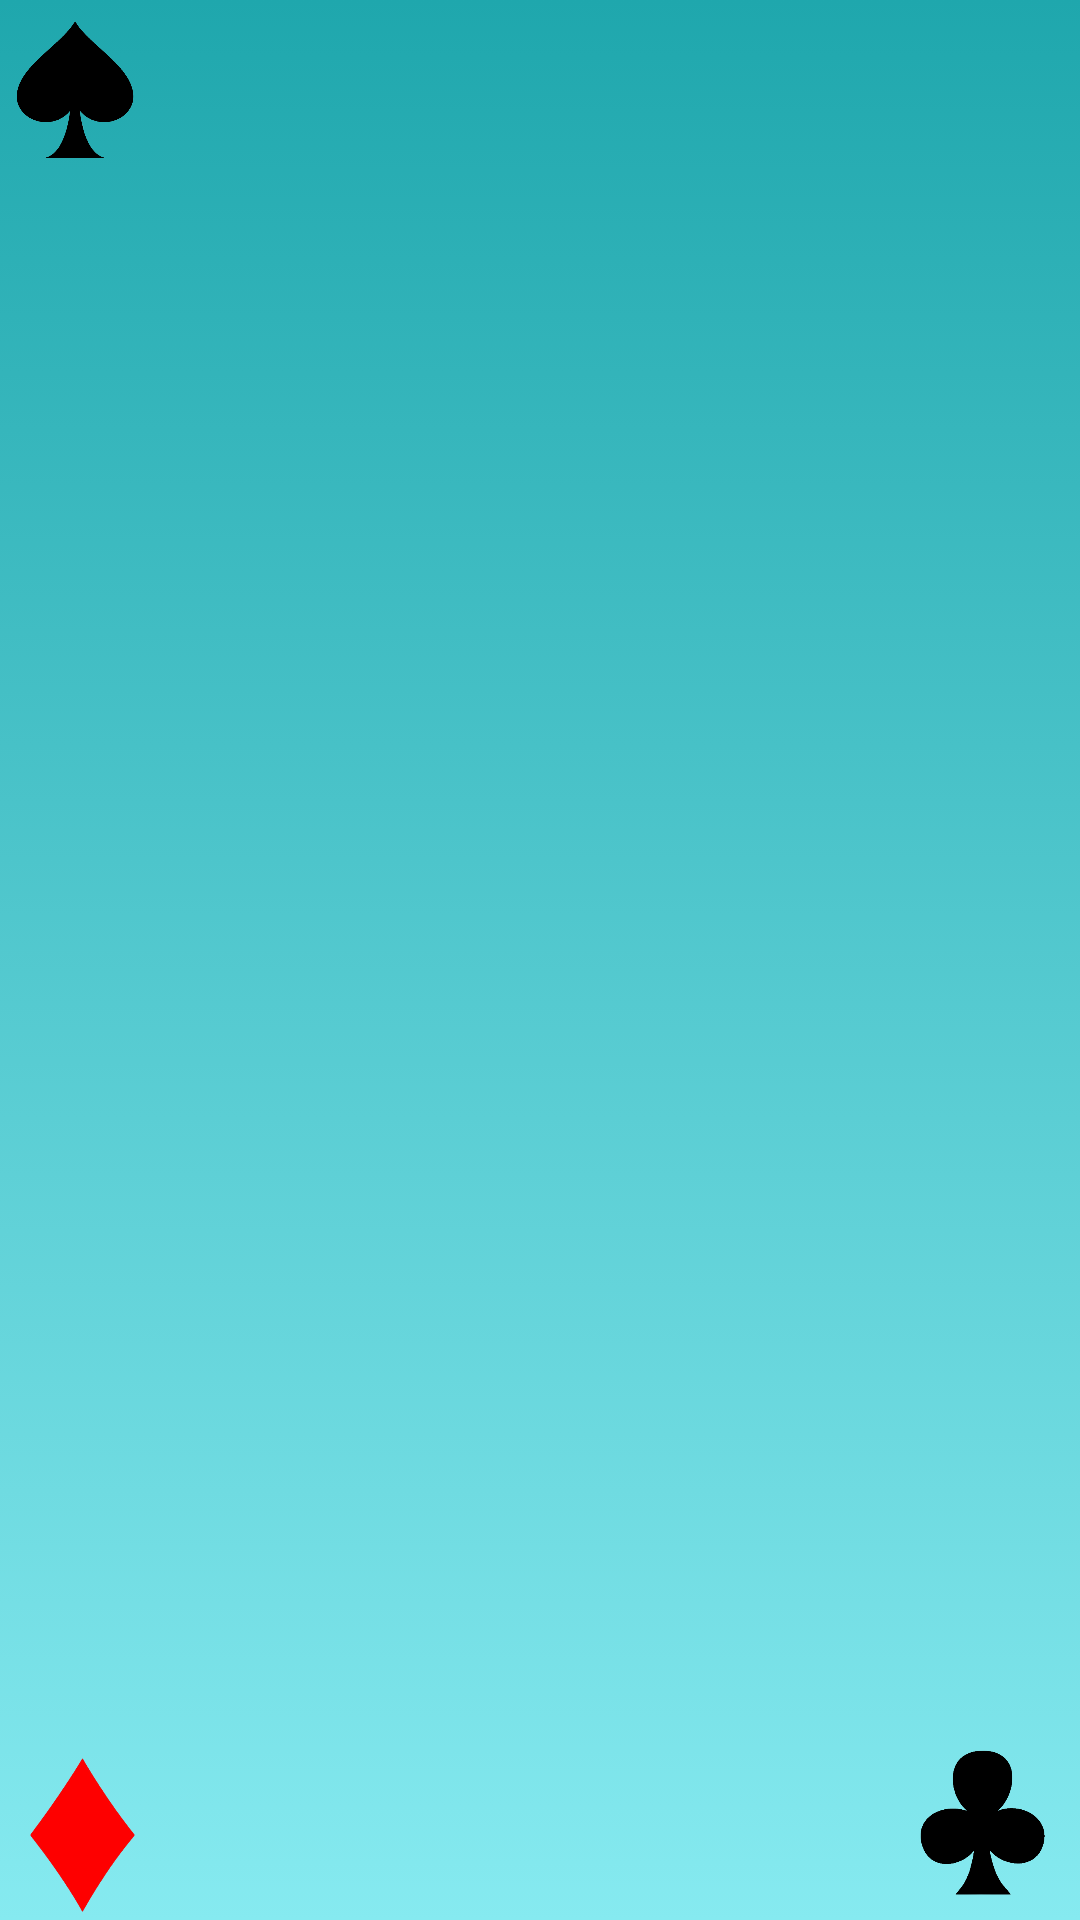

Icon click points for this 1080px×1920px phone screenshot, format [x,y]:
clubs: [982,1823]
diamonds: [82,1835]
spades: [75,90]
